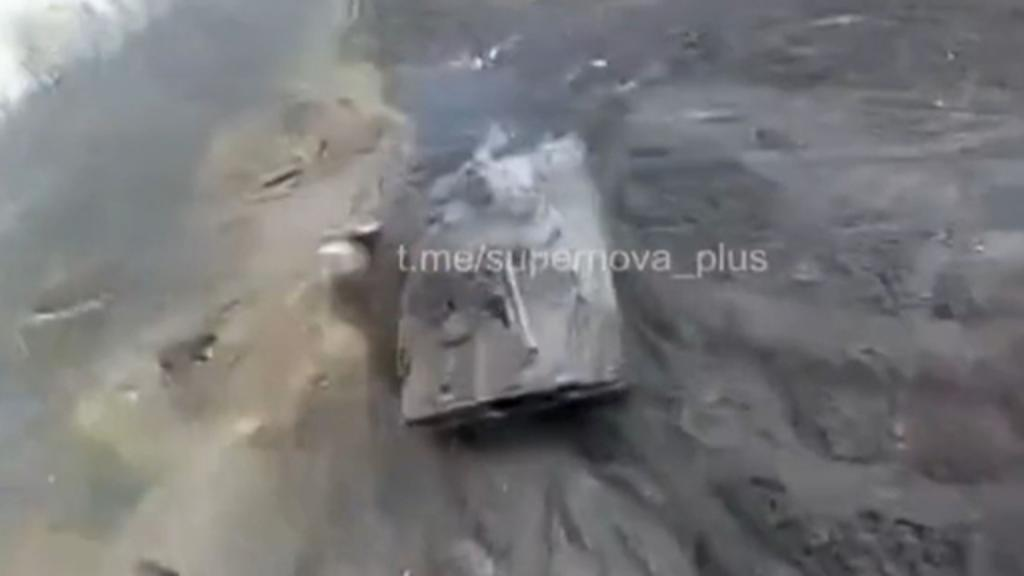APC-IFV: (370, 118, 646, 444)
